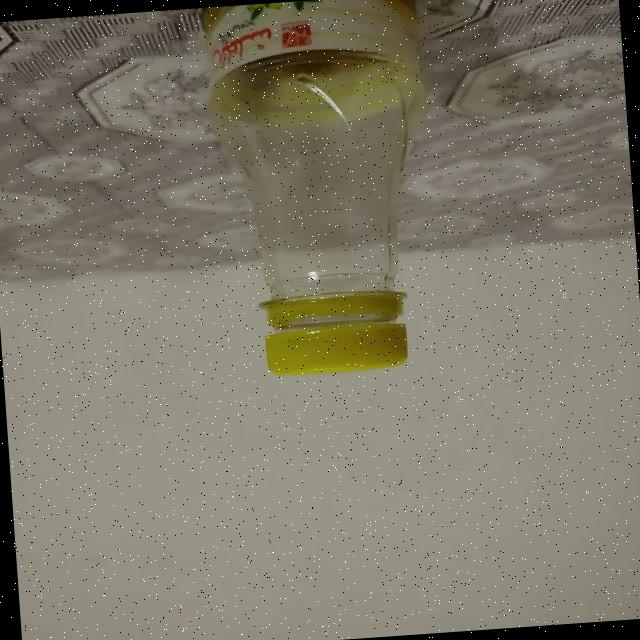bottle: (188, 0, 458, 401)
cap: (248, 280, 416, 384)
label: (195, 0, 424, 81)
